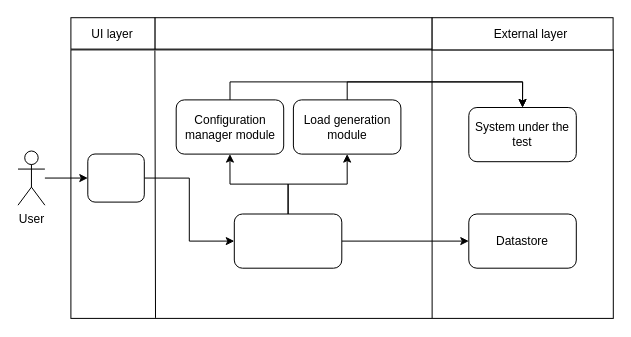
Image size: 631x337. Some labels were removed from this diagram. Here are the shapes that lost their labels. From the top down, the box of each, then its label:
(154, 17, 432, 49): Internal layer
(87, 153, 144, 202): UI
(233, 213, 342, 268): Orchestrator module
